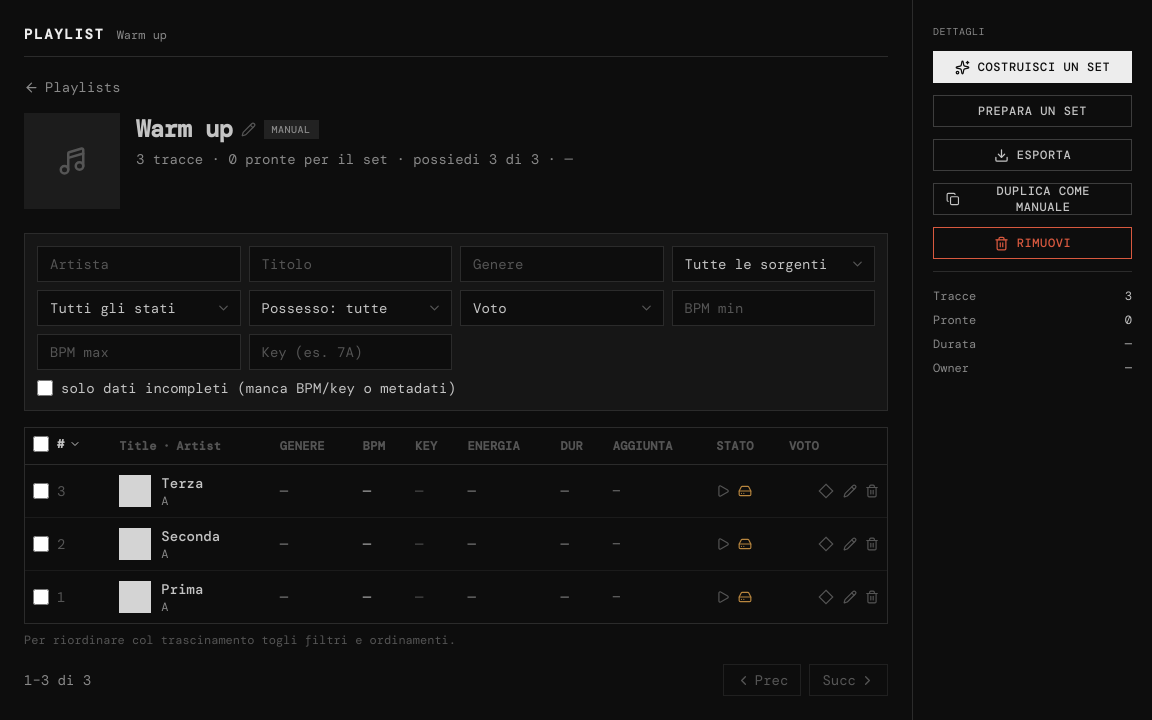
ordine iniziale del dettaglio playlist › un clic su «#» torna all'ordine naturale e riattiva il trascinamento
Expected: the text "Terza" is shown, [161, 473, 203, 493]
Click the button "#".
click(69, 444)  # box [57, 436, 80, 452]
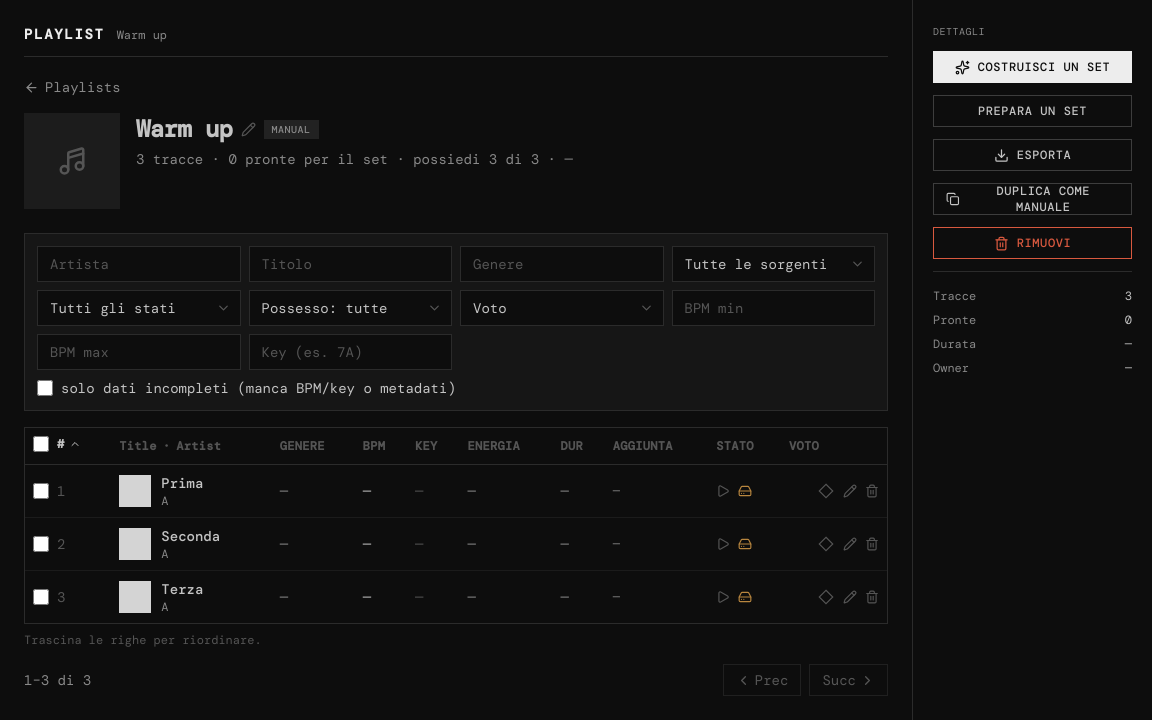
Expected: the text "Trascina le righe per riordinare." is shown, [24, 632, 262, 648]
